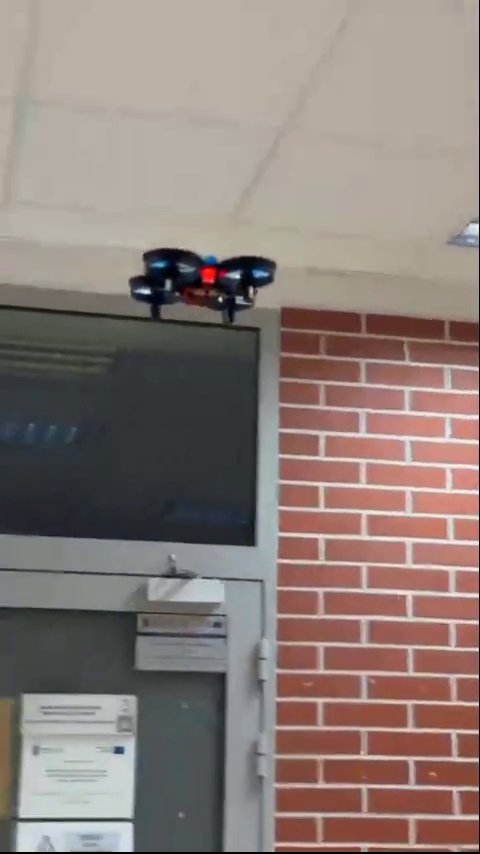drone: (126, 249, 277, 330)
